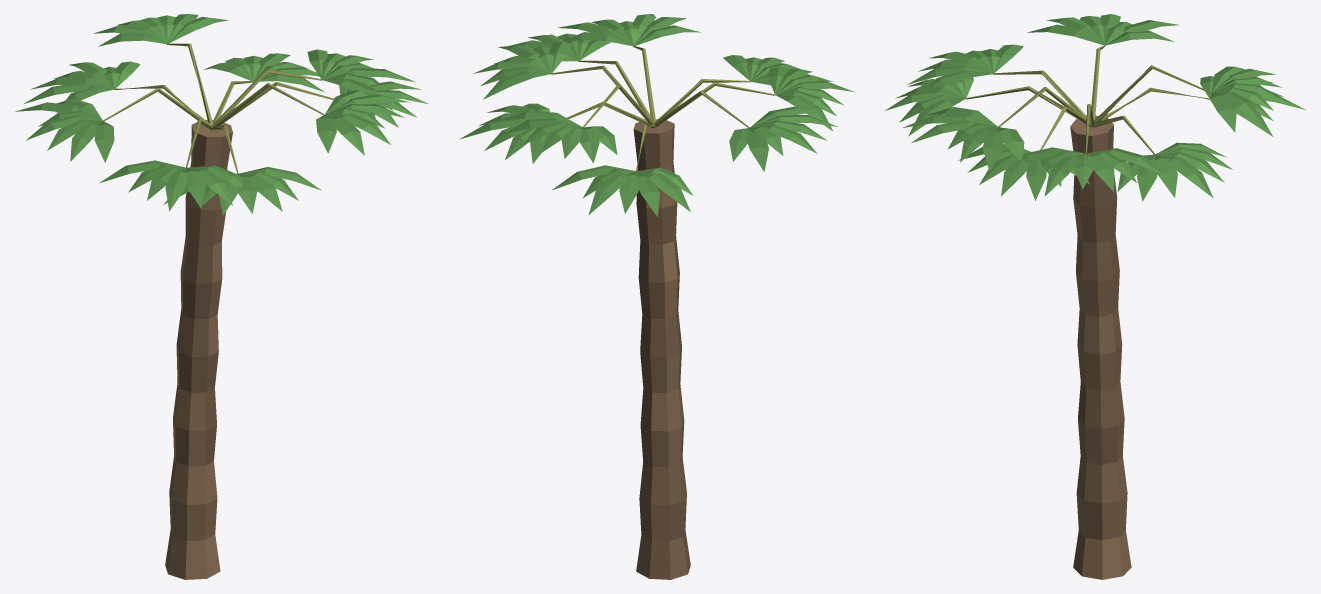
Rendered from fan_palm_lod1.glb.
3 renders of one model, left to right at view 1: azimuth 30°, elevation 25°; view 2: azimuth 150°, elevation 25°; view 3: azimuth 270°, elevation 25°, orthographic. The views are drawn at different scales.
Parts seen in each view (by area): view 1: fan_palm; view 2: fan_palm; view 3: fan_palm.
Part boxes in pixels (x1=…): fan_palm: x1=15, y1=14, x2=428, y2=579; fan_palm: x1=459, y1=14, x2=853, y2=579; fan_palm: x1=885, y1=14, x2=1305, y2=579.
Size of the model in its own units: 4.95 by 6.62 by 4.95.
